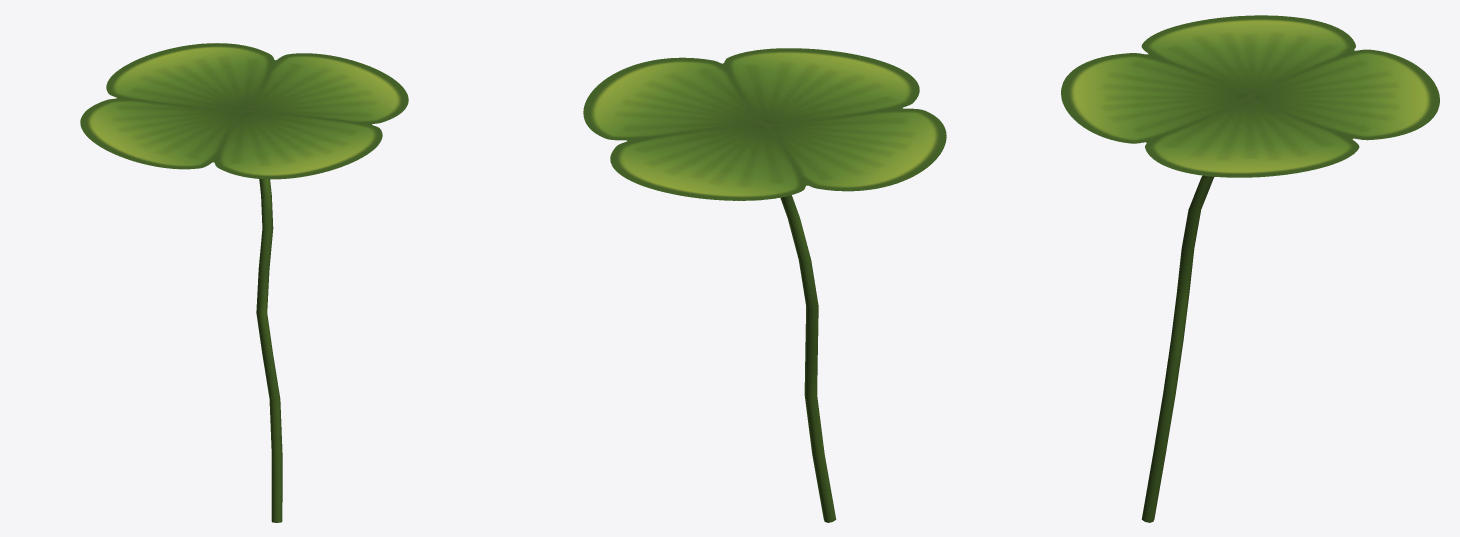
File: LillypadBob.fbx
The picture shows the model from 3 angles, left to right: view 1: azimuth 30°, elevation 25°; view 2: azimuth 150°, elevation 25°; view 3: azimuth 270°, elevation 25°; orthographic projection. The views are drawn at different scales.
Visible parts, largest first — view 1: RoofTile, LillypadBase (2); view 2: RoofTile, LillypadBase (2); view 3: RoofTile, LillypadBase (2).
Boxes of the visible parts, x1,y1,x2,y2 form: RoofTile: (80,43,408,179); LillypadBase (2): (256,179,282,522); RoofTile: (583,48,946,200); LillypadBase (2): (780,195,836,522); RoofTile: (1061,15,1439,177); LillypadBase (2): (1141,175,1214,522).
Size of the model in its own units: 2.54 by 3.09 by 2.54.
1 material, 1 textured.
